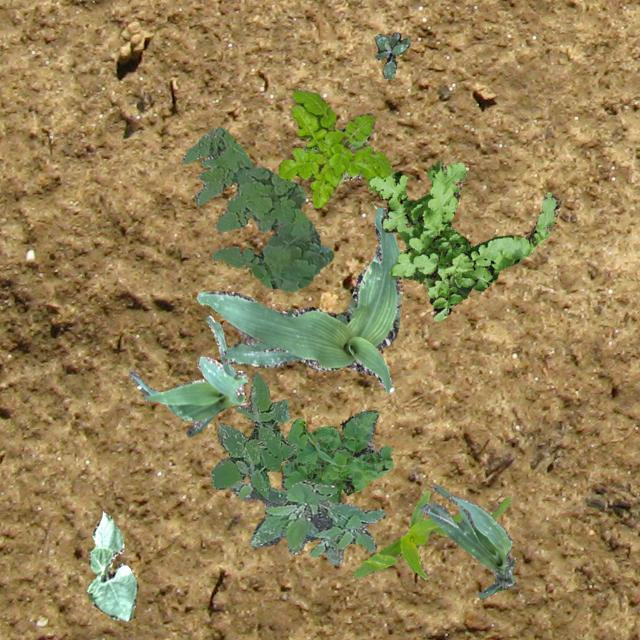crop: (195, 204, 402, 392), (128, 314, 246, 436), (352, 489, 510, 578), (420, 482, 516, 598), (86, 510, 136, 620)
weed: (366, 160, 560, 320), (180, 126, 334, 290), (276, 88, 392, 206), (228, 478, 384, 564), (210, 372, 296, 496), (280, 410, 392, 502), (302, 128, 370, 182), (374, 32, 409, 78)
